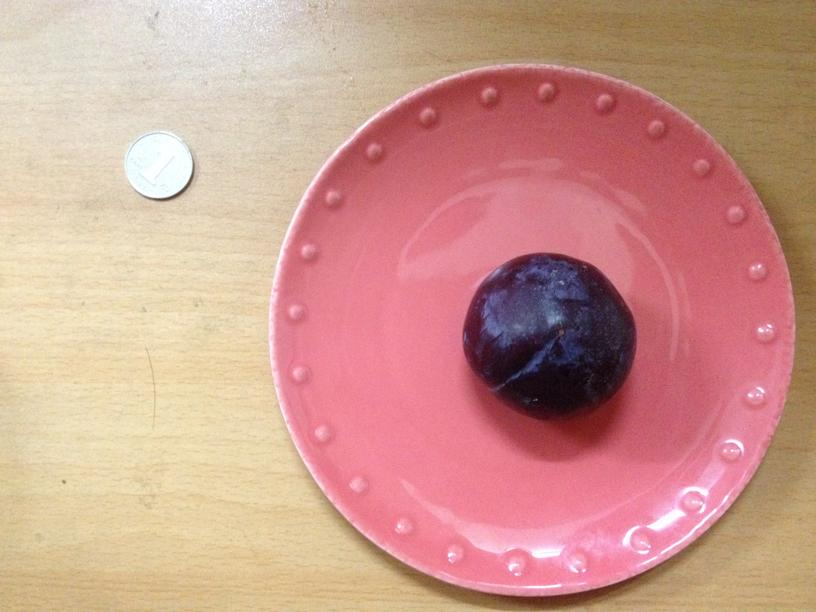coin: (119, 129, 197, 202)
plum: (464, 250, 638, 421)
